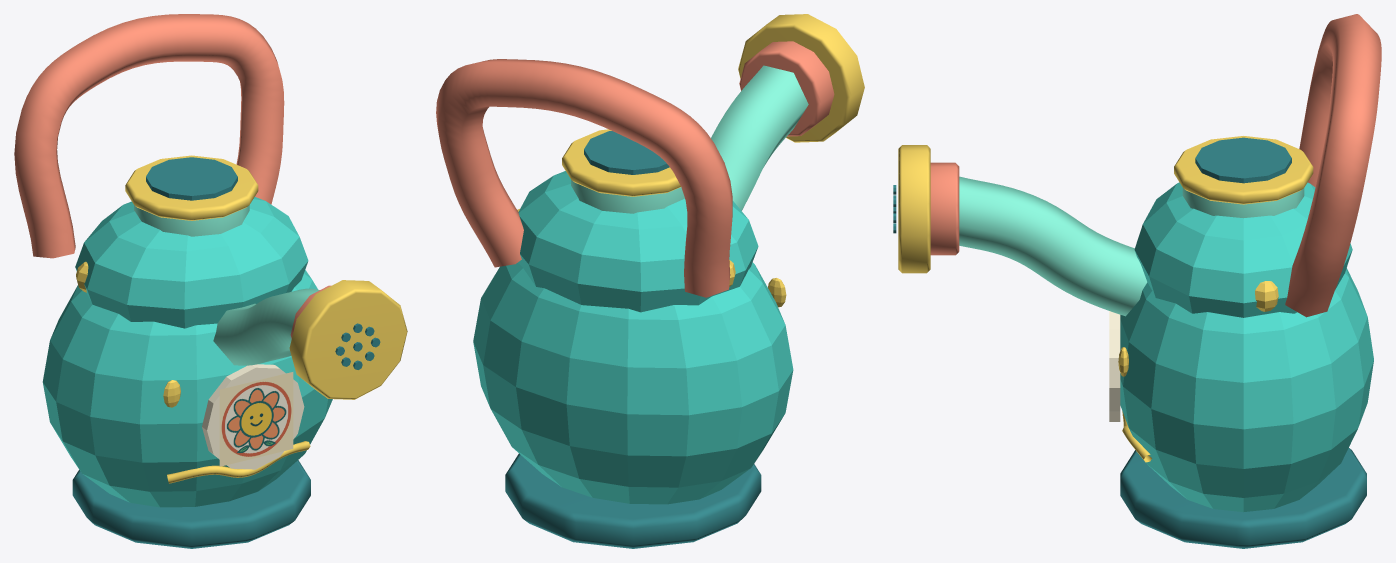
Rendered from asset.glb.
3 views of the same model, side by side, from view 1: azimuth 30°, elevation 25°; view 2: azimuth 150°, elevation 25°; view 3: azimuth 270°, elevation 25° (orthographic). The views are drawn at different scales.
Parts seen in each view (by area): view 1: Rounded watering-can body, Sturdy arched handle, Shoulder, Stable base rim, Sprinkler rose, Printed flower decal, Curved spout, Open top rim, Shadowed fill opening, Front badge, Fill neck, Wave pinstripe; view 2: Rounded watering-can body, Sturdy arched handle, Shoulder, Stable base rim, Curved spout, Sprinkler rose, Rose collar, Open top rim, Shadowed fill opening, Fill neck; view 3: Rounded watering-can body, Sturdy arched handle, Shoulder, Curved spout, Stable base rim, Sprinkler rose, Open top rim, Shadowed fill opening, Rose collar, Fill neck, Front badge, Handle mount rivet 01.
Part boxes in pixels (<box>): Rounded watering-can body: <box>42,270,332,507</box>; Sturdy arched handle: <box>14,14,284,258</box>; Shoulder: <box>75,197,308,328</box>; Stable base rim: <box>72,460,310,548</box>; Sprinkler rose: <box>289,280,407,399</box>; Printed flower decal: <box>219,372,293,466</box>; Curved spout: <box>213,288,319,365</box>; Open top rim: <box>125,155,258,220</box>; Shadowed fill opening: <box>146,157,237,200</box>; Front badge: <box>202,364,304,469</box>; Fill neck: <box>134,205,249,236</box>; Wave pinstripe: <box>167,441,310,483</box>; Rounded watering-can body: <box>473,262,793,504</box>; Sturdy arched handle: <box>436,59,732,297</box>; Shoulder: <box>518,171,758,312</box>; Stable base rim: <box>505,453,761,548</box>; Curved spout: <box>711,65,808,210</box>; Sprinkler rose: <box>738,14,864,142</box>; Rose collar: <box>739,41,834,136</box>; Open top rim: <box>562,129,680,196</box>; Shadowed fill opening: <box>584,131,669,174</box>; Fill neck: <box>571,179,684,213</box>; Rounded watering-can body: <box>1120,268,1373,512</box>; Sturdy arched handle: <box>1285,14,1381,317</box>; Shoulder: <box>1134,182,1352,317</box>; Curved spout: <box>959,176,1147,316</box>; Stable base rim: <box>1120,448,1366,548</box>; Sprinkler rose: <box>898,145,930,273</box>; Open top rim: <box>1174,136,1313,204</box>; Shadowed fill opening: <box>1195,137,1291,183</box>; Rose collar: <box>930,162,959,255</box>; Fill neck: <box>1182,188,1304,218</box>; Front badge: <box>1109,311,1120,421</box>; Handle mount rivet 01: <box>1255,281,1278,311</box>.
Size of the model in its own units: 0.1845 by 0.2849 by 0.2732.
7 materials, 1 textured.
